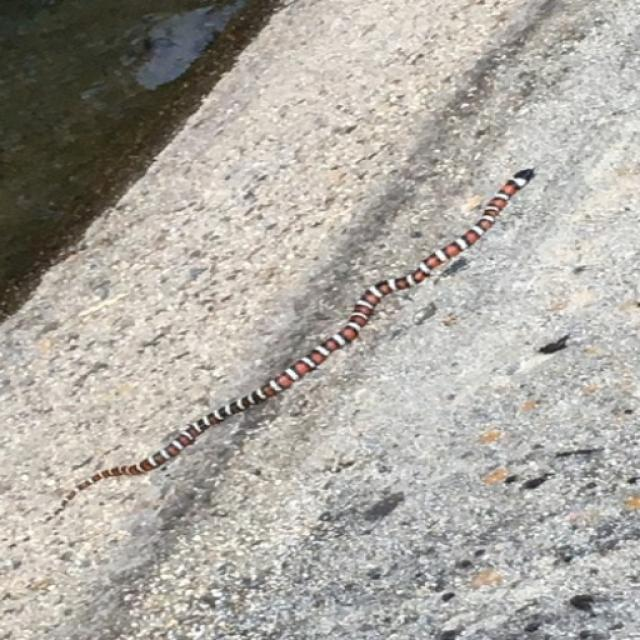snake: (56, 159, 544, 532)
